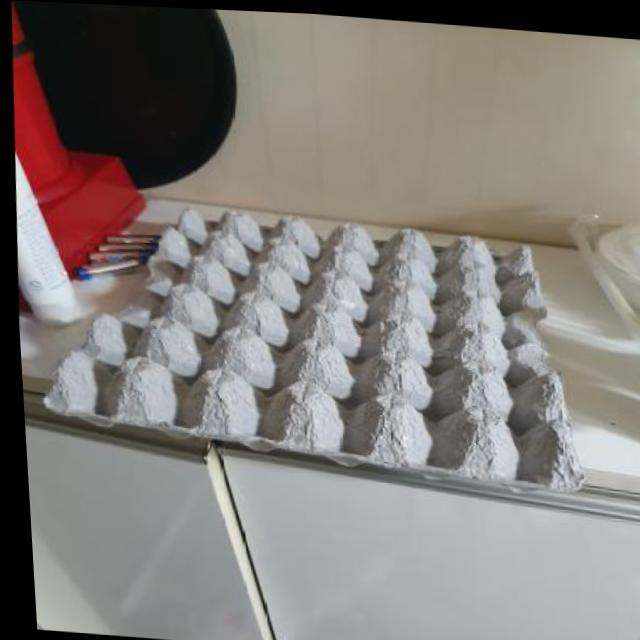box: (8, 178, 606, 526)
